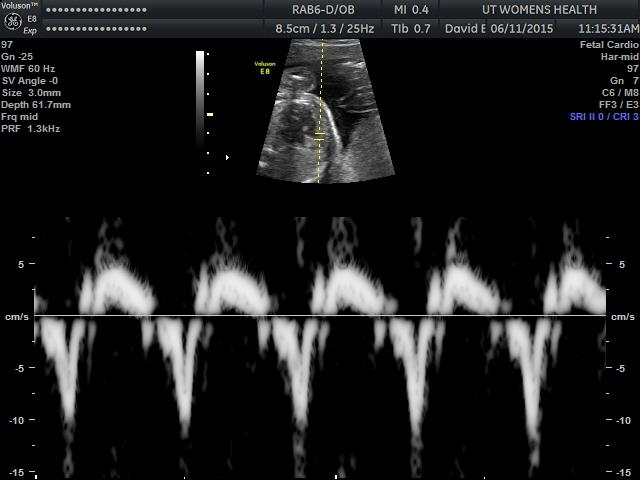Ultrasound-Waves: (37, 218, 605, 472)
